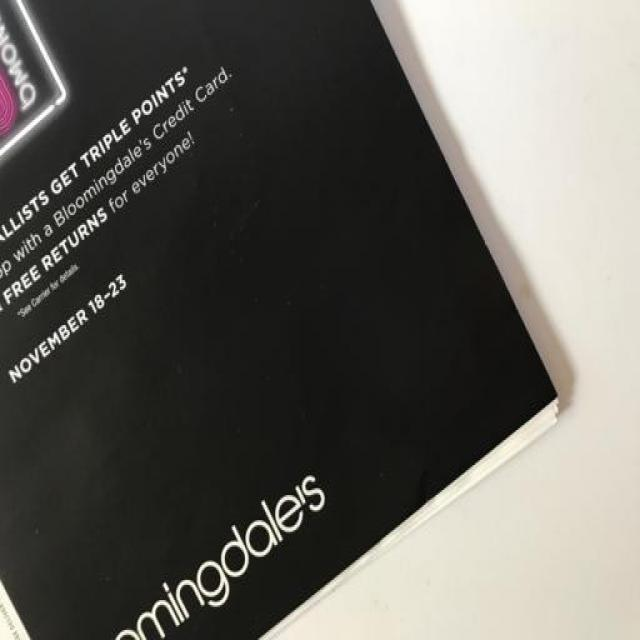paper: (2, 1, 584, 640)
